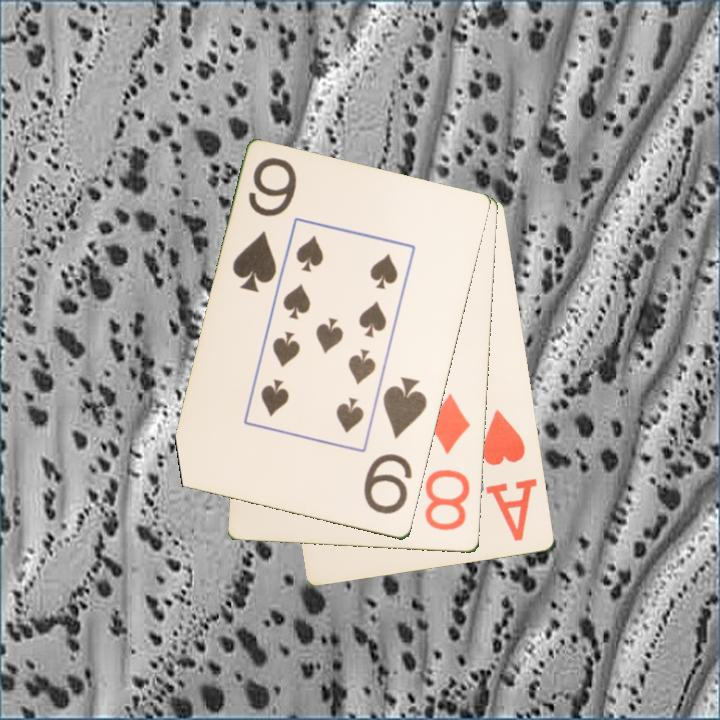8d: (421, 390, 474, 534)
9s: (360, 373, 431, 518), (229, 154, 300, 296)
Ah: (479, 406, 541, 545)
